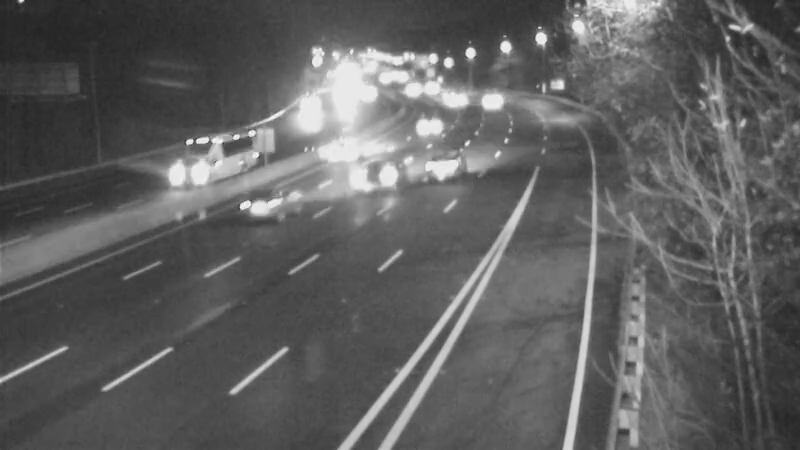vehicle: (410, 125, 490, 205), (335, 137, 415, 217), (153, 132, 233, 212), (404, 63, 454, 113), (388, 63, 438, 113), (425, 70, 475, 120), (460, 80, 510, 130), (427, 74, 477, 124), (405, 97, 455, 147), (313, 125, 363, 175), (281, 83, 331, 133)
